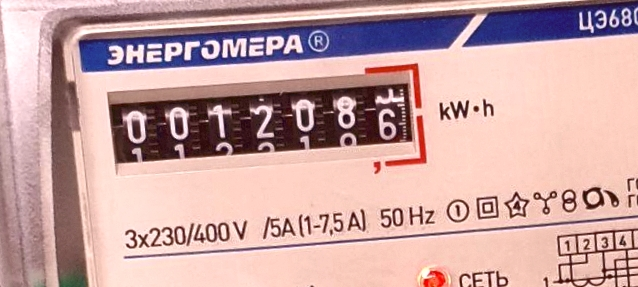0: (121, 105, 151, 146), (165, 103, 192, 142), (290, 95, 317, 133)
1: (207, 100, 231, 141)
2: (249, 101, 279, 141)
6: (373, 104, 399, 142)
8: (331, 92, 359, 131)
screen: (99, 54, 437, 199)
